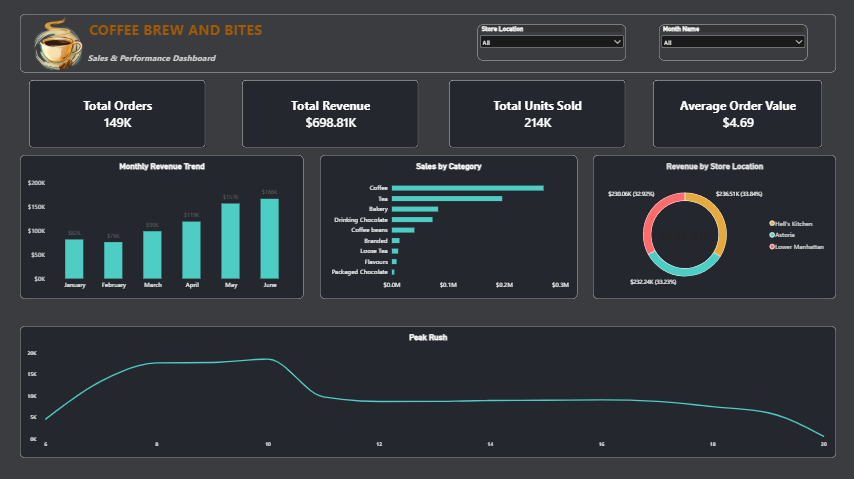

This screenshot's page, from the dashboard's own definition file:
{"tool":"powerbi","page":{"name":"Page 1","canvas":[1920,1080],"ordinal":0},"visuals":[{"type":"clusteredBarChart","title":"Sales by Category","fields":{"Category":["Transactions.product_category"],"Y":["Transactions.Total_revenue"]},"box":[720,353.3,571.7,320],"z":0},{"type":"clusteredColumnChart","title":"Monthly Revenue Trend","fields":{"Category":["Transactions.Month Name"],"Y":["Transactions.Total_revenue"]},"box":[52,354,630,320],"z":1000},{"type":"donutChart","title":"Revenue by Store Location","fields":{"Category":["Transactions.store_location"],"Y":["Transactions.Total_revenue"]},"box":[1326.7,353.3,540,320],"z":2000},{"type":"lineChart","title":"Peak Rush","fields":{"Category":["Transactions.Hour"],"Y":["Transactions.Total Orders"]},"box":[53.3,733.3,1813.3,293.3],"z":3000},{"type":"textbox","box":[53.3,38.3,1813.3,130],"z":4000},{"type":"cardVisual","fields":{"Data":["Transactions.Total Orders"]},"box":[74.3,186.9,392.5,150],"z":5000},{"type":"cardVisual","fields":{"Data":["Transactions.Average Order Value"]},"box":[1460,187.5,376.3,151],"z":6000},{"type":"cardVisual","fields":{"Data":["Transactions.Total Units Sold"]},"box":[1006.5,186.9,392.5,150],"z":7000},{"type":"cardVisual","fields":{"Data":["Transactions.Total_revenue"]},"box":[545,187.5,392.5,150],"z":8000},{"type":"slicer","fields":{"Values":["Transactions.store_location"]},"box":[1070,63.3,330,80],"z":9000},{"type":"slicer","fields":{"Values":["Transactions.Month Name"]},"box":[1471.7,63.3,330,80],"z":10000},{"type":"image","box":[53.8,22.5,172.5,161.2],"z":10001}]}

Visuals, with their boxes in screenshot pixels (x1, y1, x2, y2), scaled from the page's 1920x1080 canvas onto the 854x479 screenshot:
"Sales by Category" clusteredBarChart: <region>320, 157, 575, 299</region>
"Monthly Revenue Trend" clusteredColumnChart: <region>23, 157, 303, 299</region>
"Revenue by Store Location" donutChart: <region>590, 157, 830, 299</region>
"Peak Rush" lineChart: <region>24, 325, 830, 455</region>
textbox: <region>24, 17, 830, 75</region>
cardVisual - Transactions.Total Orders: <region>33, 83, 208, 149</region>
cardVisual - Transactions.Average Order Value: <region>649, 83, 817, 150</region>
cardVisual - Transactions.Total Units Sold: <region>448, 83, 622, 149</region>
cardVisual - Transactions.Total_revenue: <region>242, 83, 417, 150</region>
slicer - Transactions.store_location: <region>476, 28, 623, 64</region>
slicer - Transactions.Month Name: <region>655, 28, 801, 64</region>
image: <region>24, 10, 101, 81</region>
